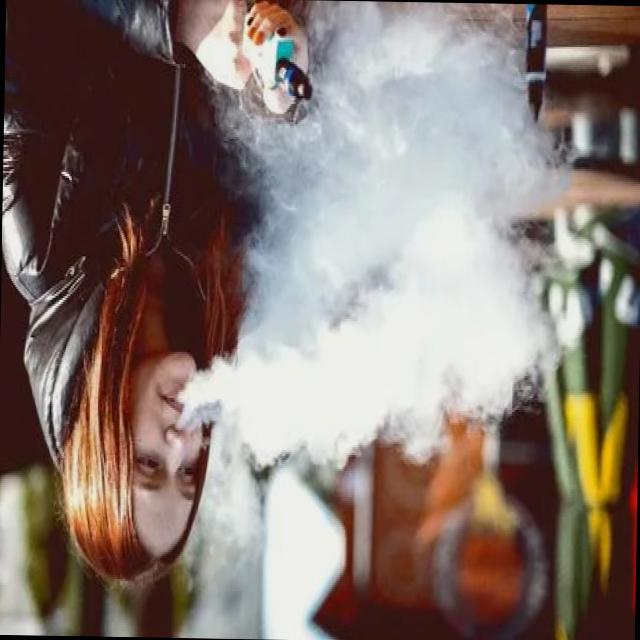smoke: (234, 10, 318, 111)
